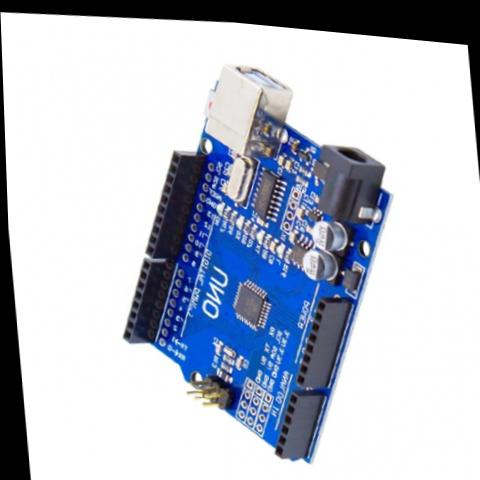Arduino-Uno: (91, 35, 415, 479)
